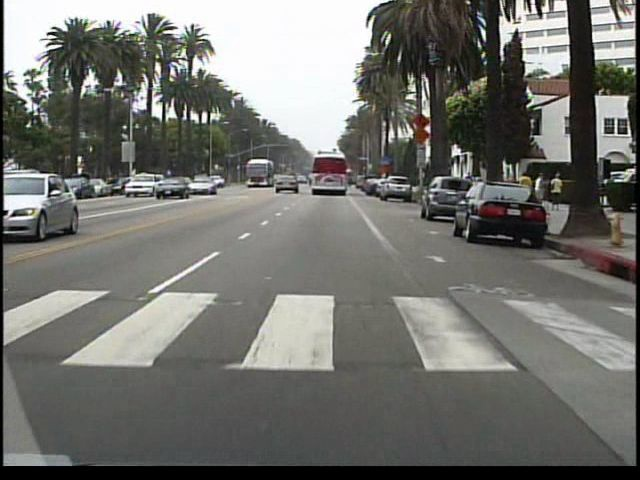person: (463, 172, 476, 202)
